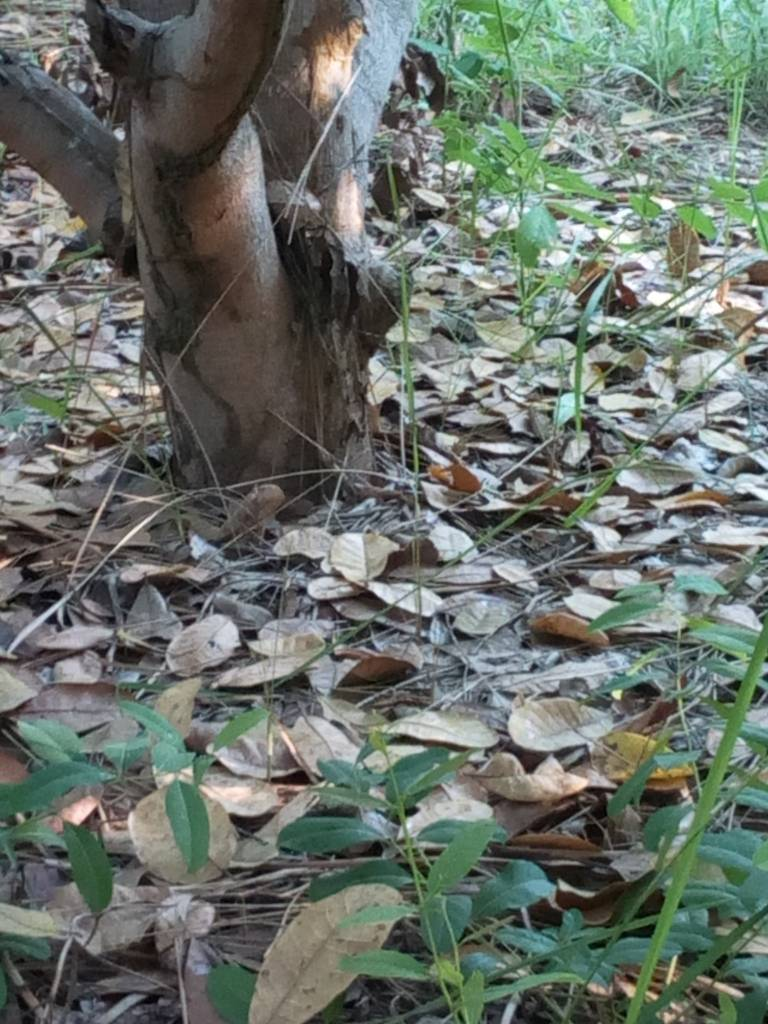Termites: (143, 132, 307, 467), (225, 7, 282, 103)
